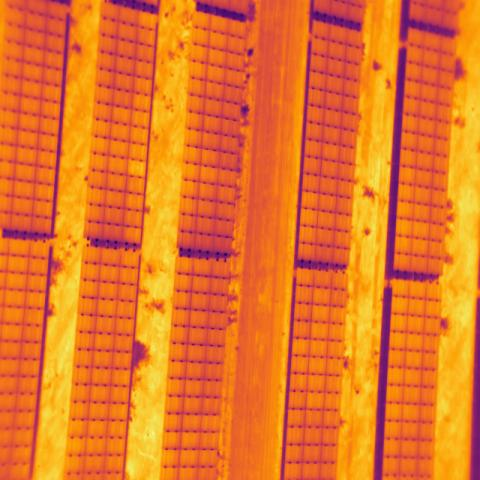fault: (305, 390, 326, 413), (308, 372, 325, 390), (300, 210, 318, 226), (128, 162, 147, 177), (303, 191, 319, 208), (396, 220, 411, 236), (398, 203, 413, 218)
